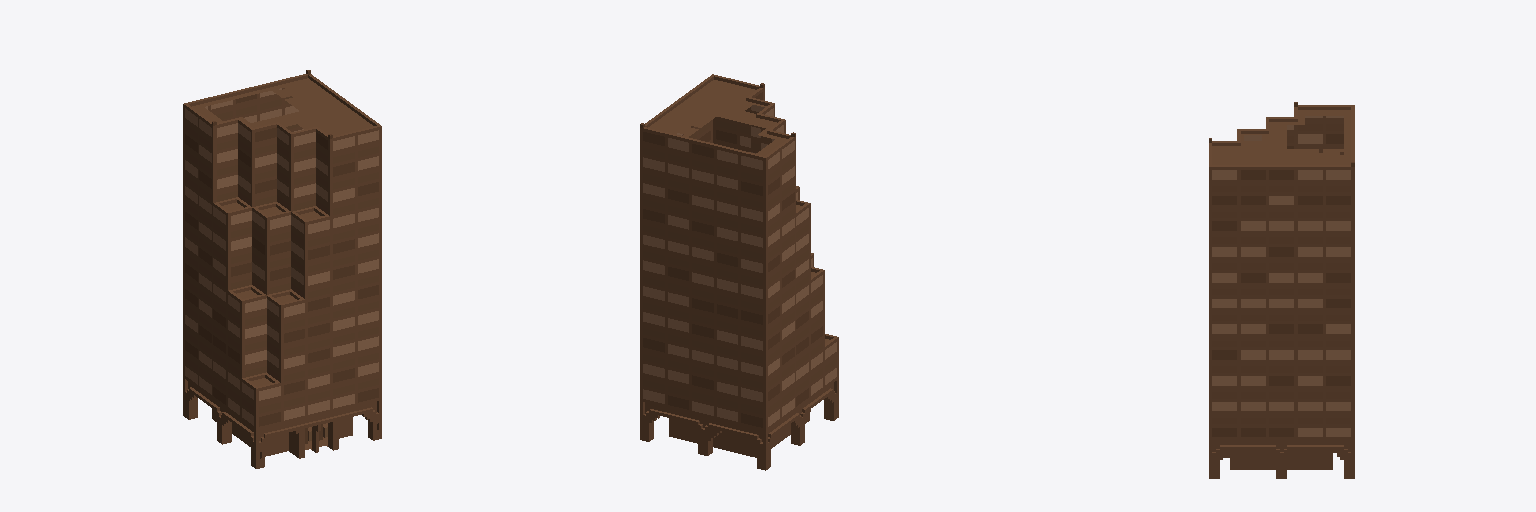
3 views of the same model, side by side, from view 1: azimuth 30°, elevation 25°; view 2: azimuth 150°, elevation 25°; view 3: azimuth 270°, elevation 25° (orthographic).
Parts seen in each view (by area): view 1: soup2; view 2: soup2; view 3: soup2.
Part boxes in pixels (x1,y1,x2,y2): soup2: (183, 70, 381, 468); soup2: (640, 74, 838, 470); soup2: (1209, 102, 1354, 478).
Bounding box in the file's own units: 59 × 111 × 42.
1 materials, 1 textured.